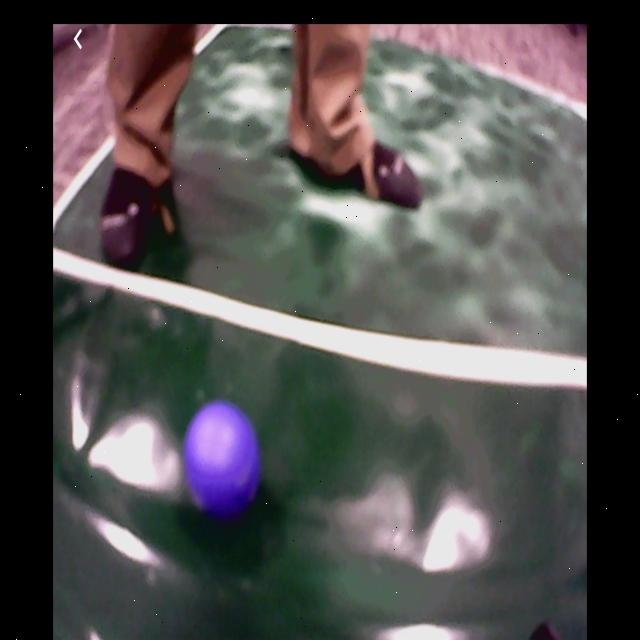ball: (188, 400, 258, 520)
